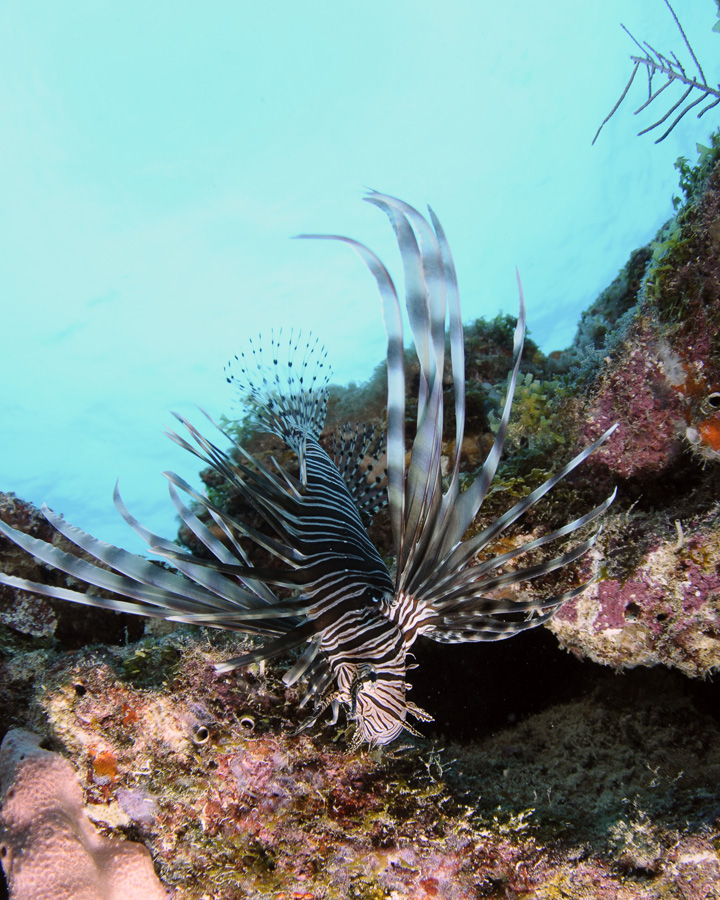Pterois_volitans: (172, 291, 510, 800)
